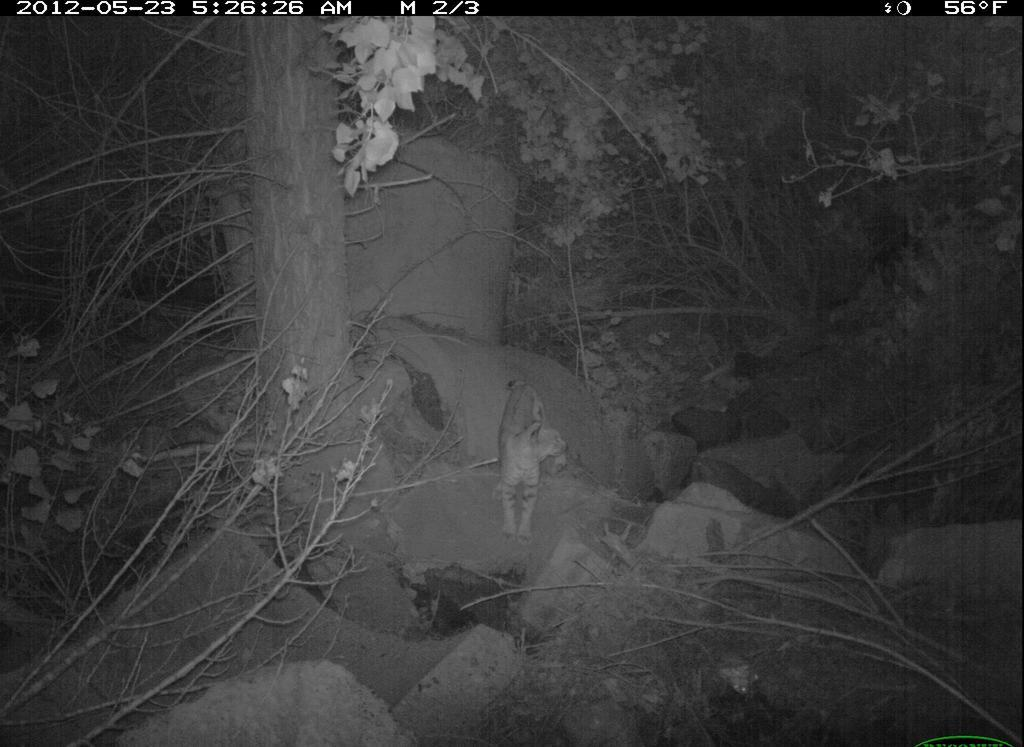bobcat: (491, 370, 574, 546)
